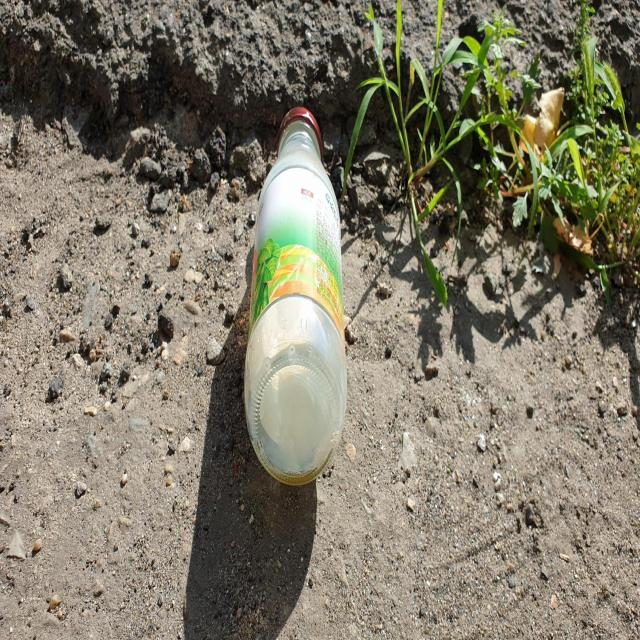glass: (244, 106, 347, 484)
